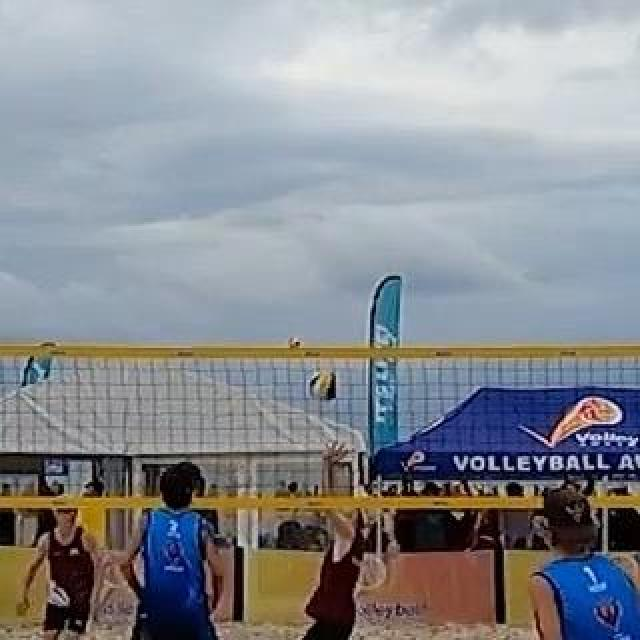volleyball: (309, 372, 339, 400)
